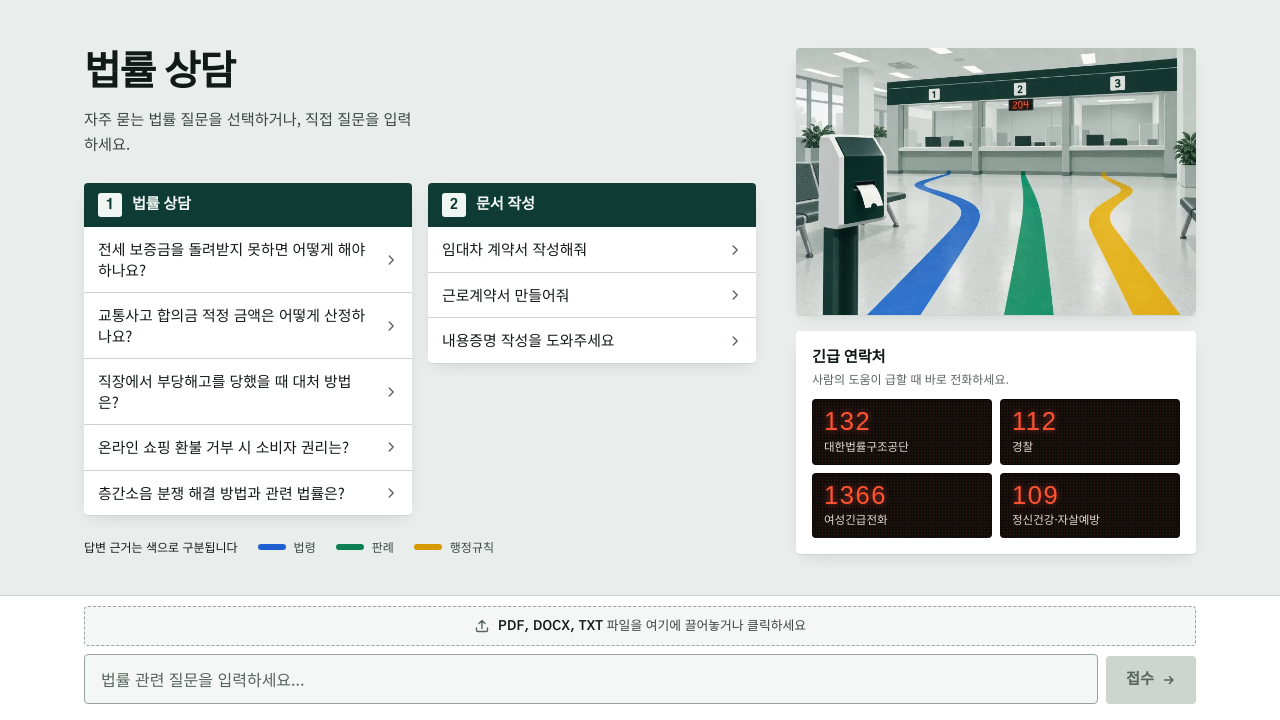
Test: ChatContainer › 스트림 오류 시 재시도 › '다시 시도' 클릭 시 동일 입력으로 재전송하고, 성공하면 버튼이 사라져야 한다
Click the button "근로계약서 만들어줘" at (506, 294), box [428,273,756,317]
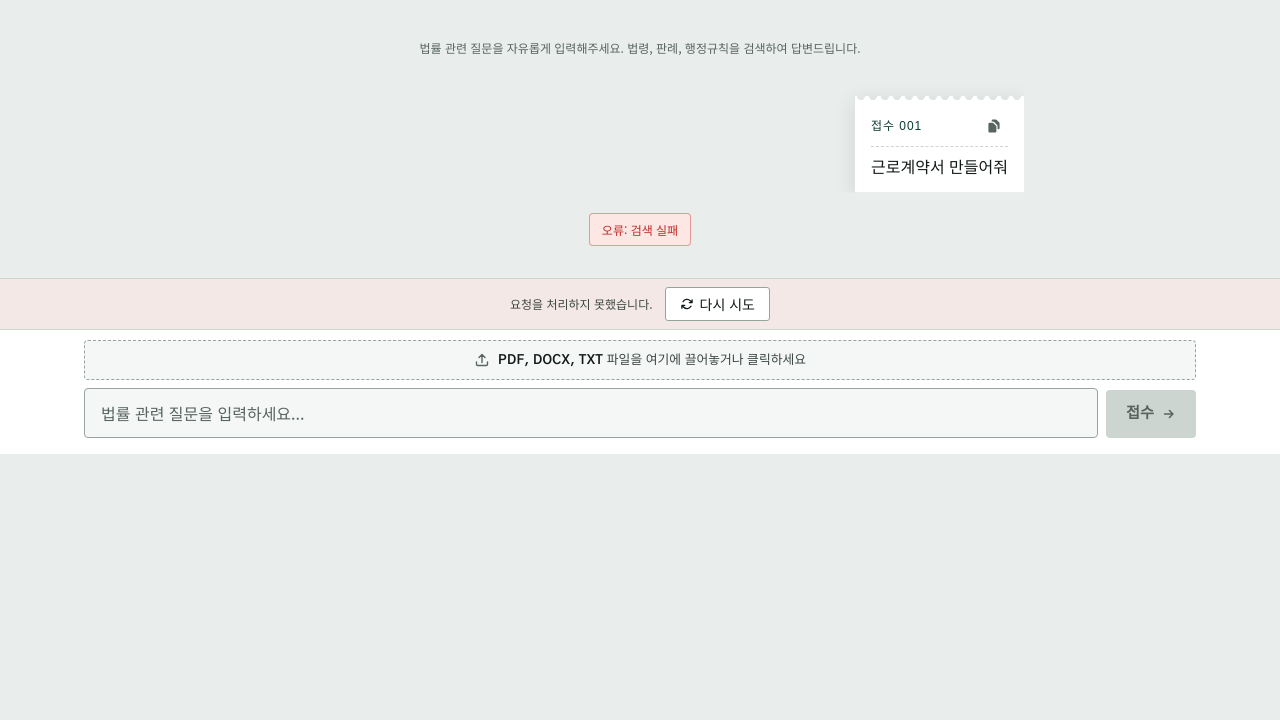
Click the button "다시 시도" at (717, 304), box [664,287,770,321]
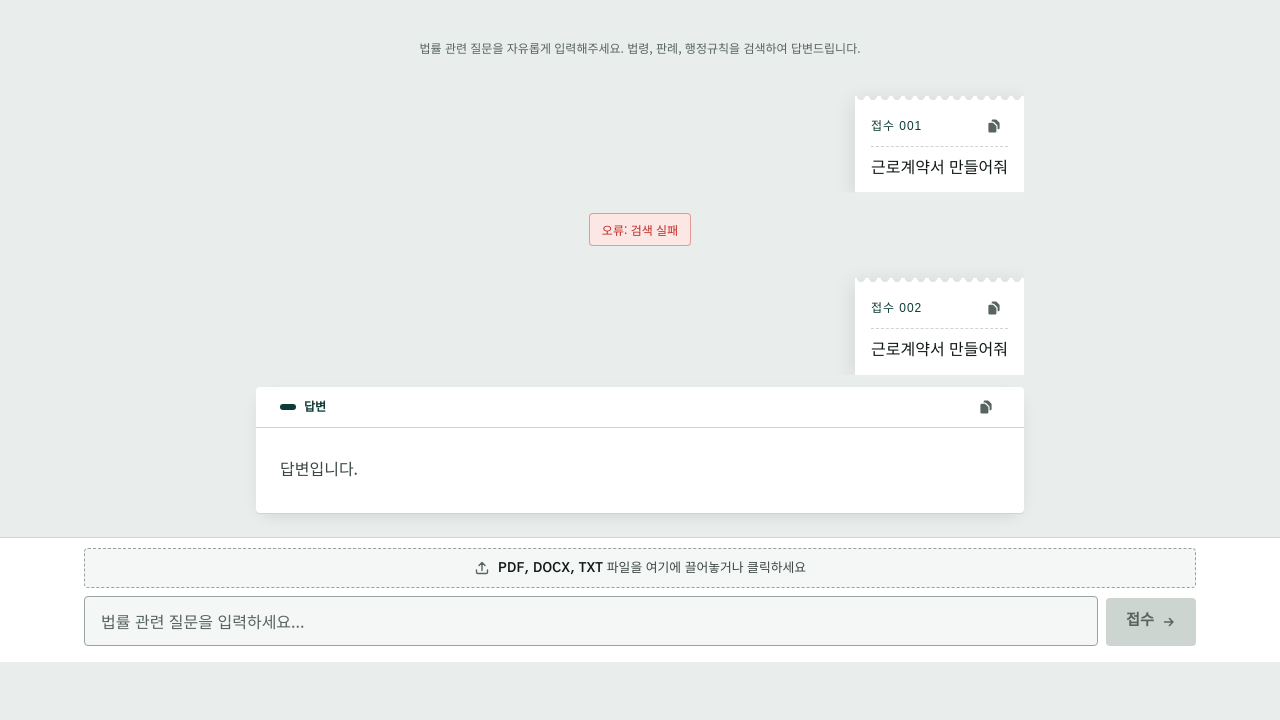
Now the button "다시 시도" is gone
Now the text "답변입니다." is shown, box [280,456,358,480]
